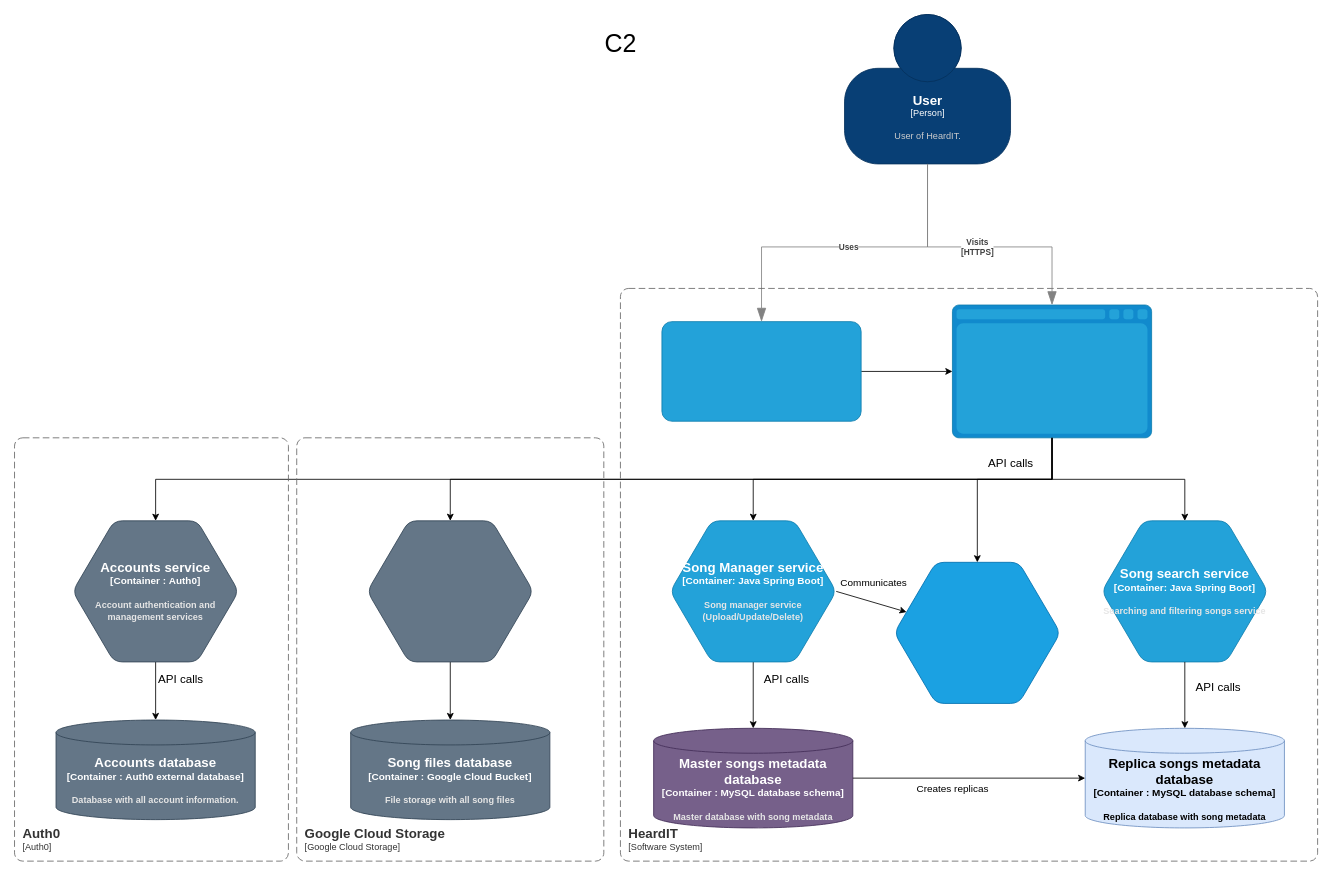
This 1332x876 diagram has some shape labels left out. The shapes that lost their labels are listed below. From the top down, each one's centre as x and y in pixels, then its label:
pixel 761 371: HeardIT-Front-end [Container: ReactJs] Front-end of HeardIT application.
pixel 1052 371: HeardIt Page [Container : ReactJS] HeardIT page application
pixel 449 591: Song stream service [Container: Google Cloud] Song streaming services
pixel 976 632: Message Broker [Container: RabbitMQ, Java Spring Boot] Message broker service
